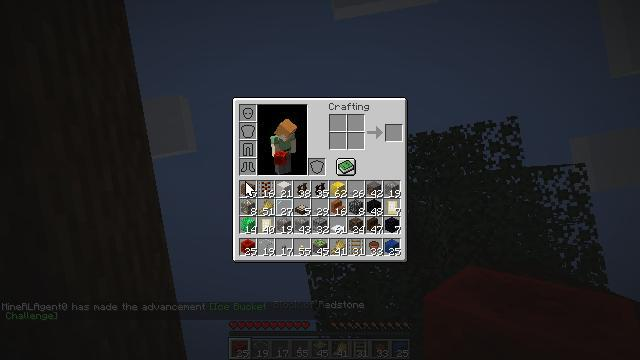cursor: (181, 245, 197, 255)
